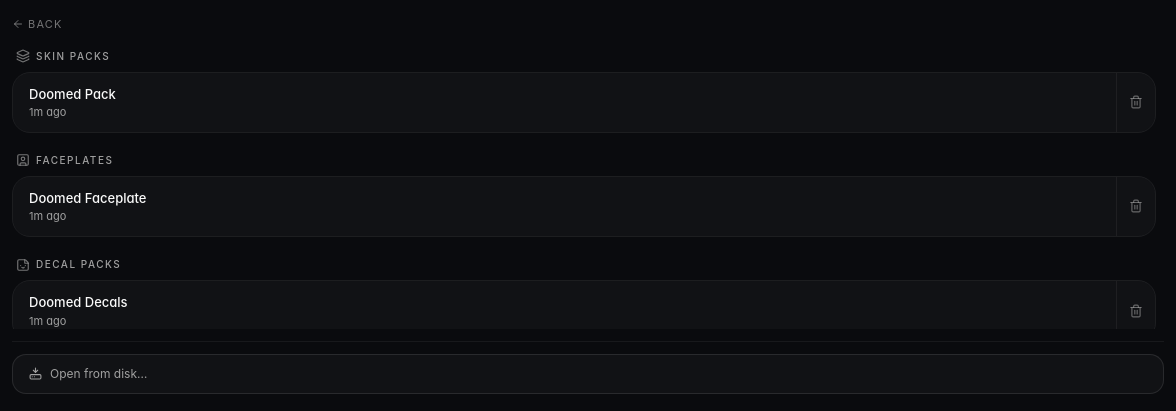
Test: SavedProjectsList › delete affordance › first trash click reveals confirm + cancel buttons for that row only
Click the button named "Delete Doomed Pack" at (1136, 102), box [1116,72,1155,132]
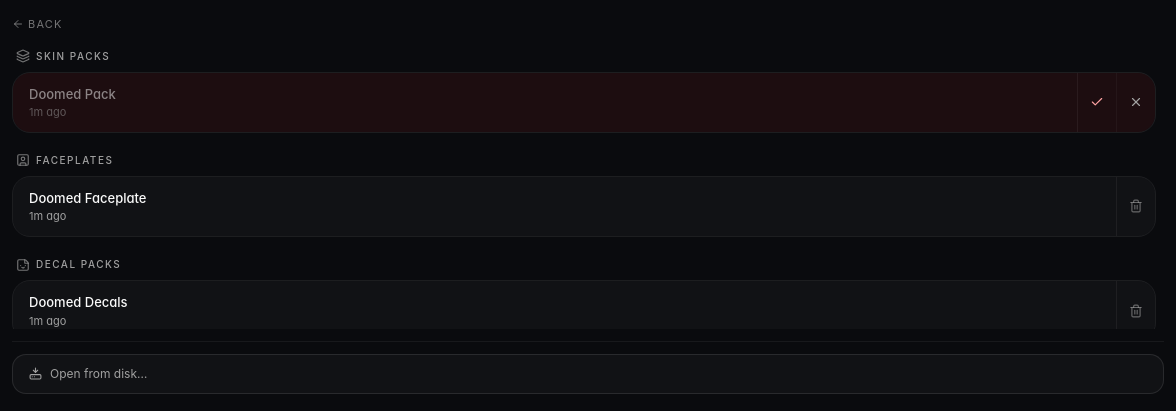
Expected: the number of buttons with test id "arm-delete" is 2, [1116,177,1155,236]; [1116,281,1155,328]
Result: the number of buttons with test id "confirm-delete" is 1 at [1078,72,1116,132]
Result: the number of buttons with test id "cancel-delete" is 1 at [1116,72,1155,132]
